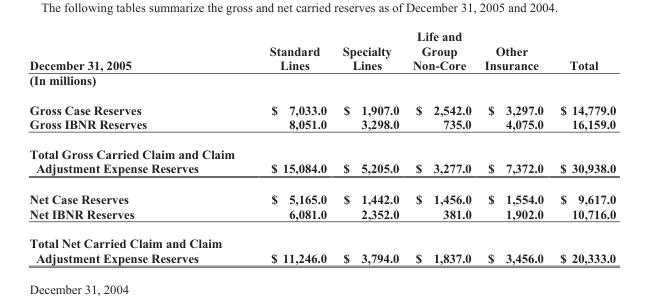table: (28, 28, 615, 264)
table column: (28, 28, 233, 264), (233, 28, 333, 264), (477, 28, 551, 264), (333, 28, 405, 264), (405, 28, 477, 264), (551, 28, 615, 264)
table column header: (28, 28, 615, 72)
table projected row header: (28, 72, 615, 94), (28, 138, 615, 160), (28, 228, 615, 250)
table row: (28, 28, 615, 72), (28, 160, 615, 183), (28, 183, 615, 206), (28, 72, 615, 94), (28, 94, 615, 116), (28, 116, 615, 138), (28, 138, 615, 160), (28, 206, 615, 228), (28, 228, 615, 250), (28, 250, 615, 264)
